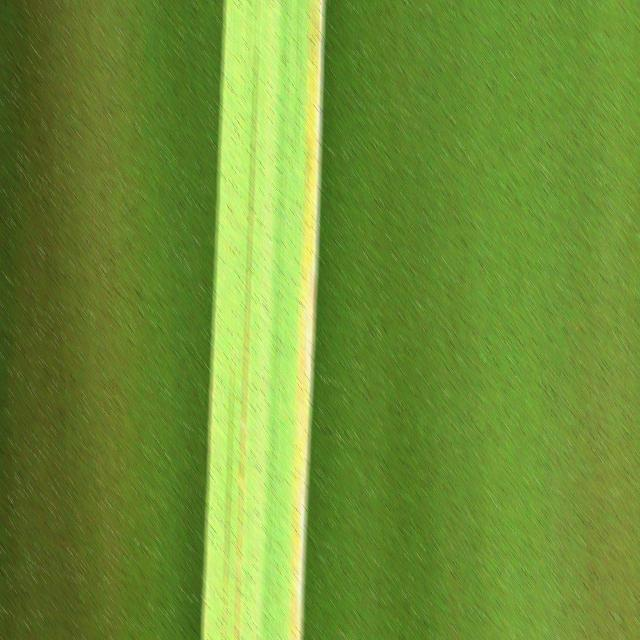BLS: (290, 0, 324, 640), (233, 43, 258, 640), (222, 331, 236, 640), (299, 0, 301, 40)
